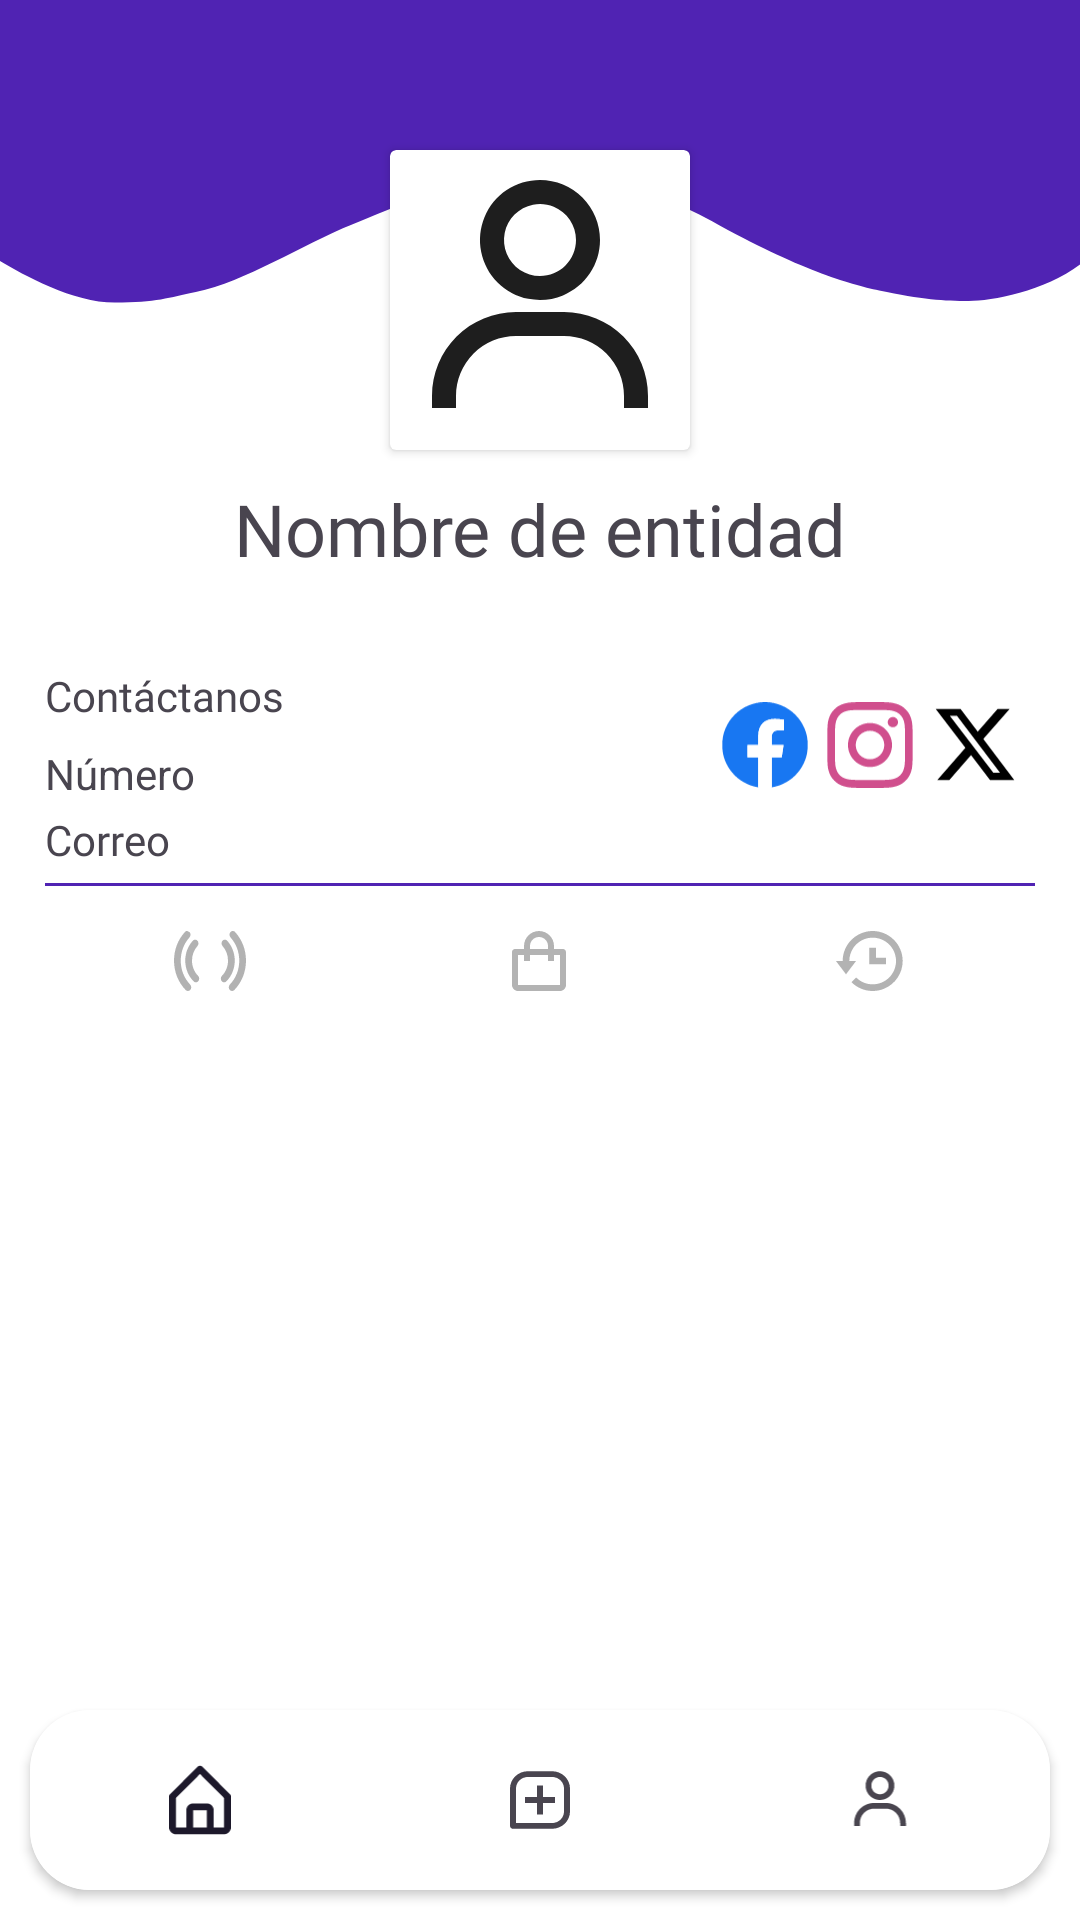

Screen size 1080 × 1920. Icon name, then its box in pixels as (x1, y1, x2, y2):
clock: (836, 931, 903, 991)
live: (174, 931, 246, 991)
shop: (512, 931, 566, 991)
